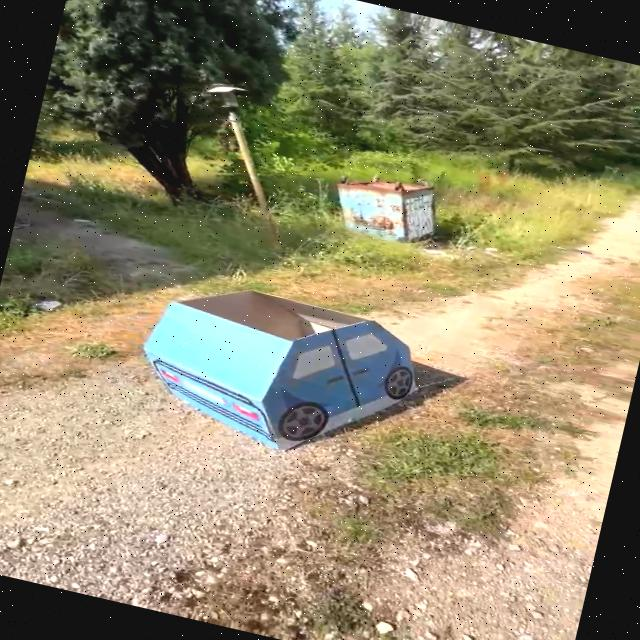blue_car: (101, 253, 451, 501)
